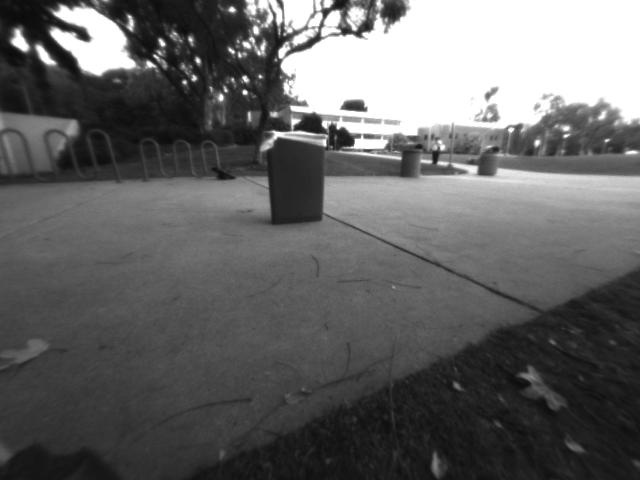trashcan_open: (261, 126, 327, 228)
